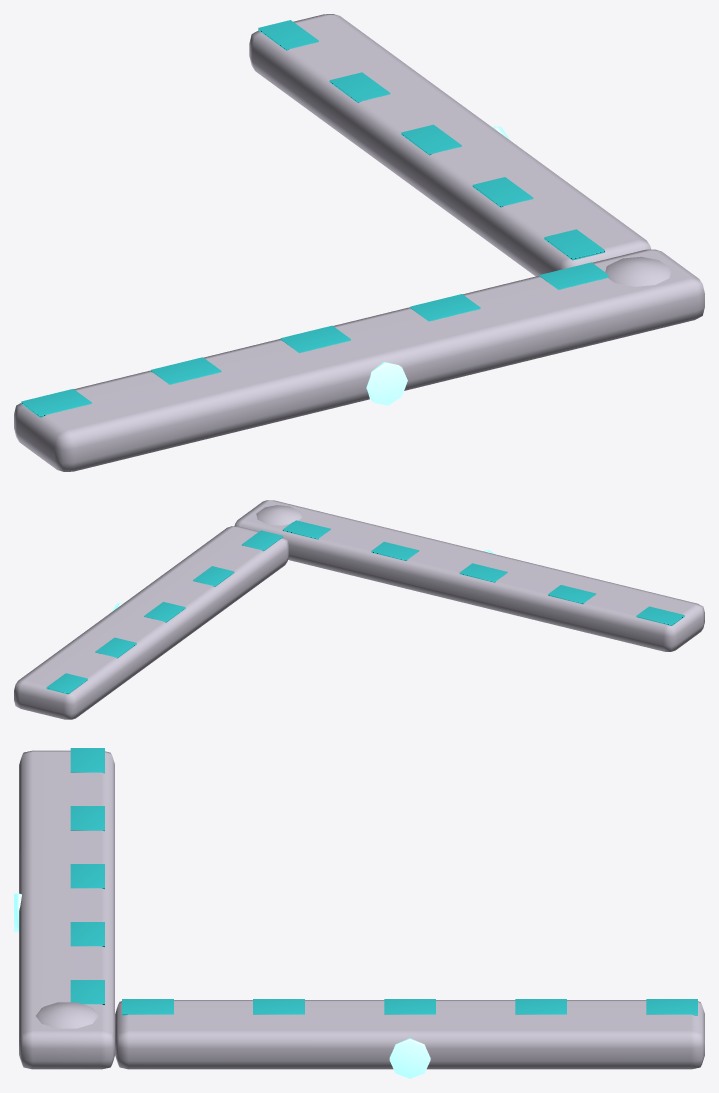
File: pool_edge_corner.glb
3 views of the same model, one above another, from view 1: azimuth 30°, elevation 25°; view 2: azimuth 150°, elevation 25°; view 3: azimuth 270°, elevation 25° (orthographic). The views are drawn at different scales.
Parts seen in each view (by area): view 1: Coping; view 2: Coping; view 3: Coping.
Part boxes in pixels (x1,y1,x2,y2): Coping: [14, 14, 704, 471]; Coping: [14, 500, 704, 719]; Coping: [14, 748, 704, 1078].
Size of the model in its own units: 1.01 by 0.084 by 1.01.
